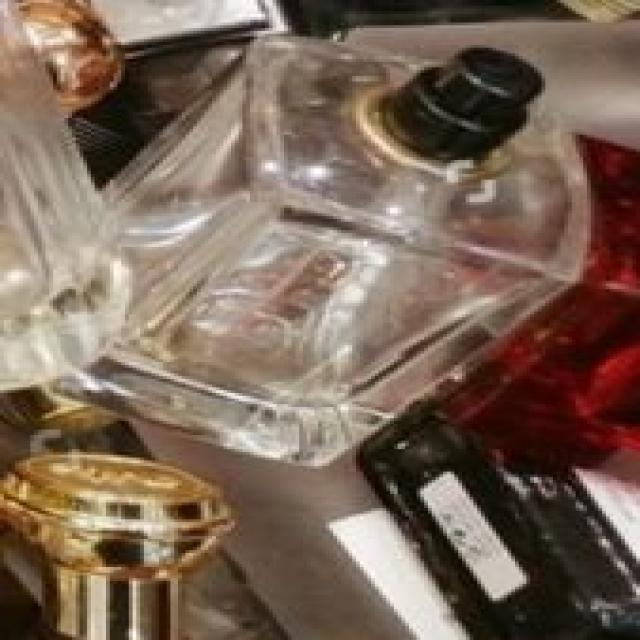electronic: (37, 31, 600, 464)
